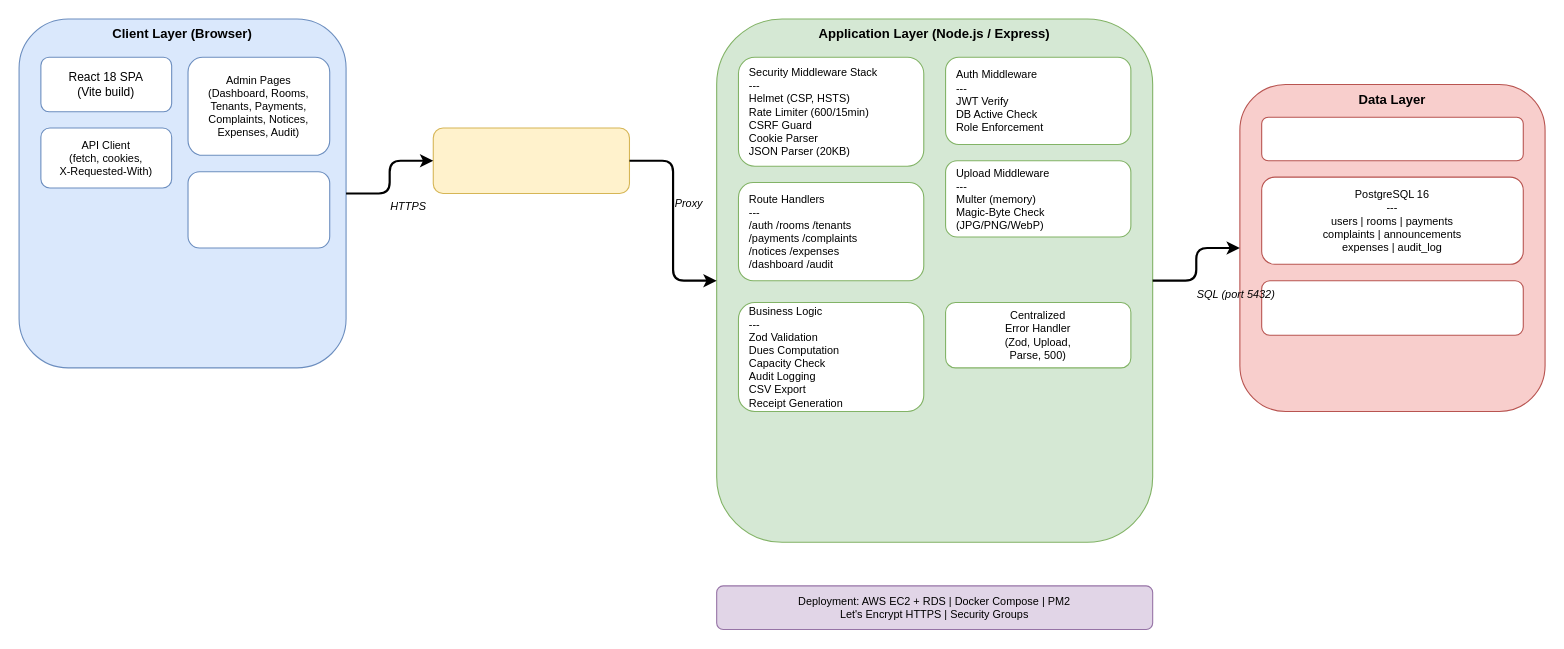
The diagram is 1564 pixels wide and 649 high, and some of its shapes have lost their labels. Here are the shapes that lost their labels. From the top down, the centre of each, then its label:
At (x=1392, y=138): "pg Pool (parameterized SQL)".
At (x=530, y=160): "Nginx Reverse Proxy (HTTPS / SSL Termination)".
At (x=258, y=209): "Tenant Pages (Dashboard, Rent Payment, Complaints, Notices, Profile)".
At (x=1392, y=307): "Payment Proof (BYTEA binary storage in DB)".
